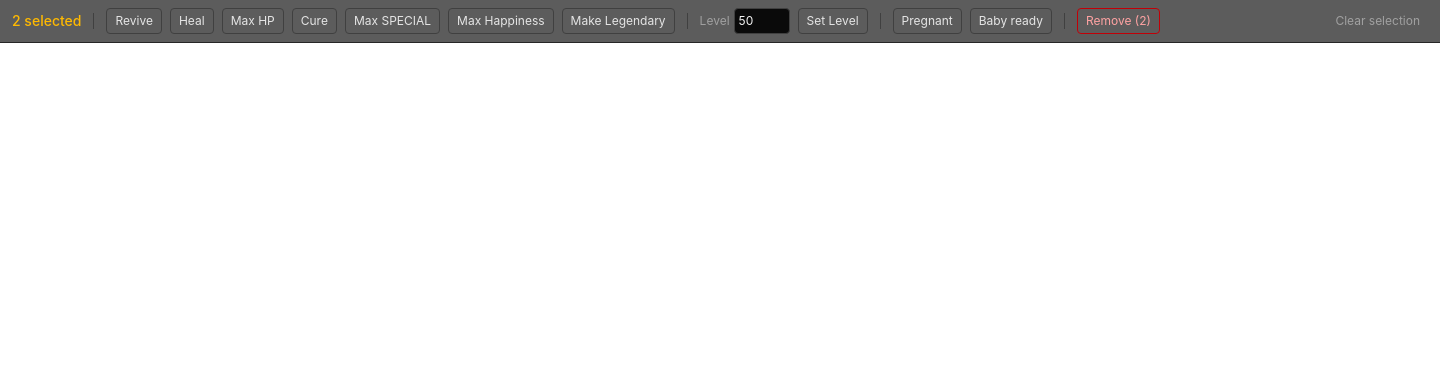
Scenario: BulkActionBar - remove selected › hovering Remove shows the full scrubbing help as an on-screen tooltip
Note: Viewport-clamped bubble, not a native `title` (which the page cannot keep on screen).
Hover over the button "Remove (2)": (1118, 21) [1077,8,1160,34]
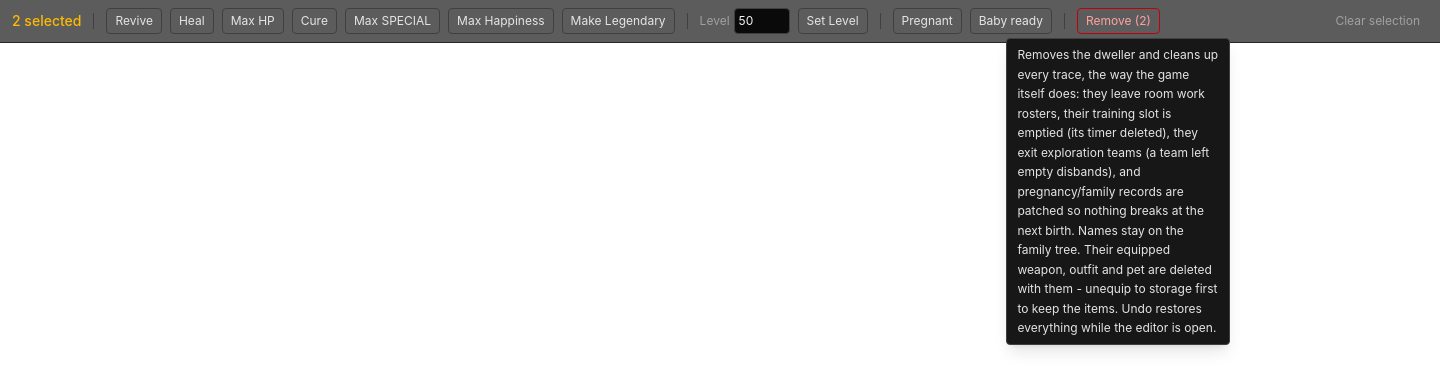
Now the tooltip shows "cleans up every trace", box [1017,47,1218,335]
